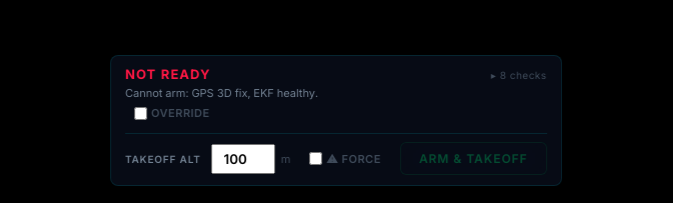
Test: one-verdict pre-flight › puts the per-check detail behind the disclosure, closed by default
Expected: the text "Link READY" is not shown
Click the button "▸ 8 checks" at (519, 74), box [491, 68, 547, 80]
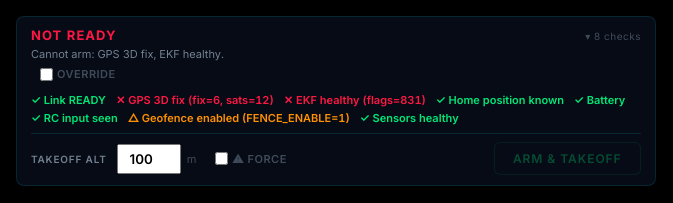
Expected: the button "▾ 8 checks" is expanded, [585, 30, 641, 42]
Expected: the text "✓ Link READY" is shown, [31, 93, 106, 107]
Expected: the text "✕ GPS 3D fix (fix=6, sats=12)" is shown, [116, 93, 274, 107]
